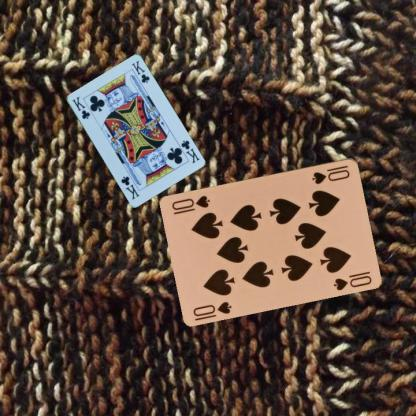10s: (309, 162, 351, 186), (190, 298, 233, 318)
Kc: (70, 94, 92, 120), (178, 138, 200, 164)
